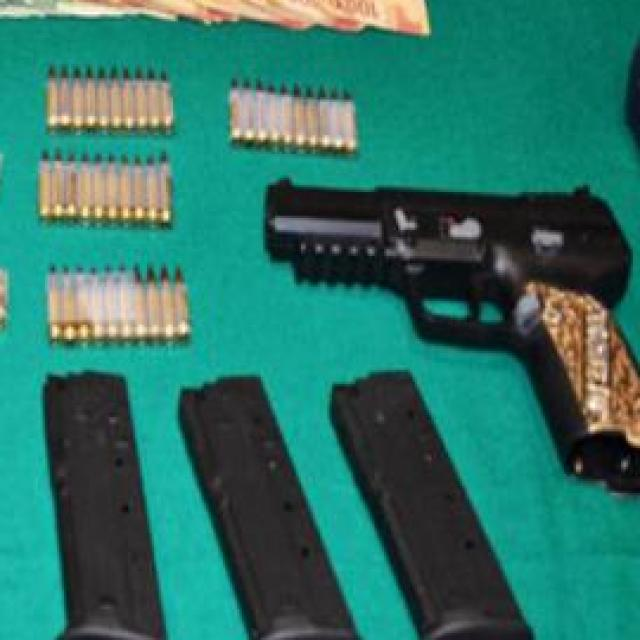pistol: (260, 154, 640, 502)
